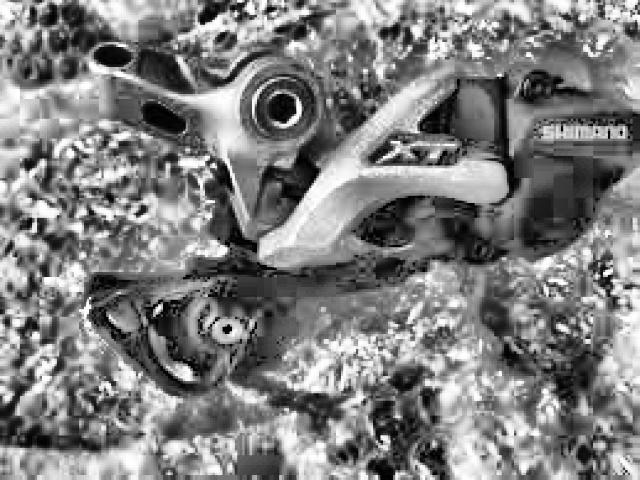rear_derailleur: (86, 29, 640, 399)
